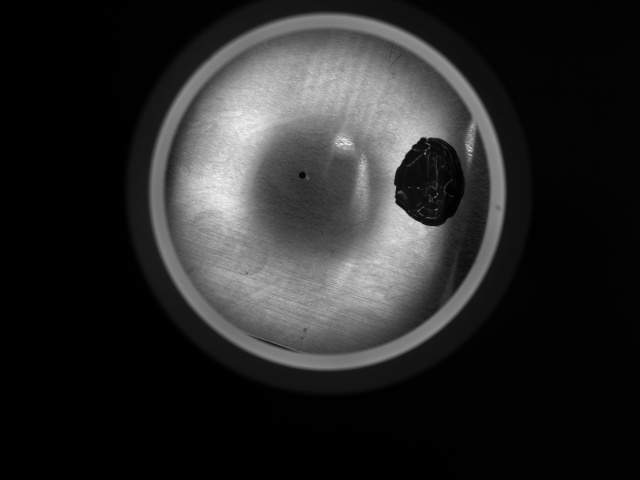zang_wu: (391, 135, 467, 227)
zhen_kong: (296, 169, 309, 181)
